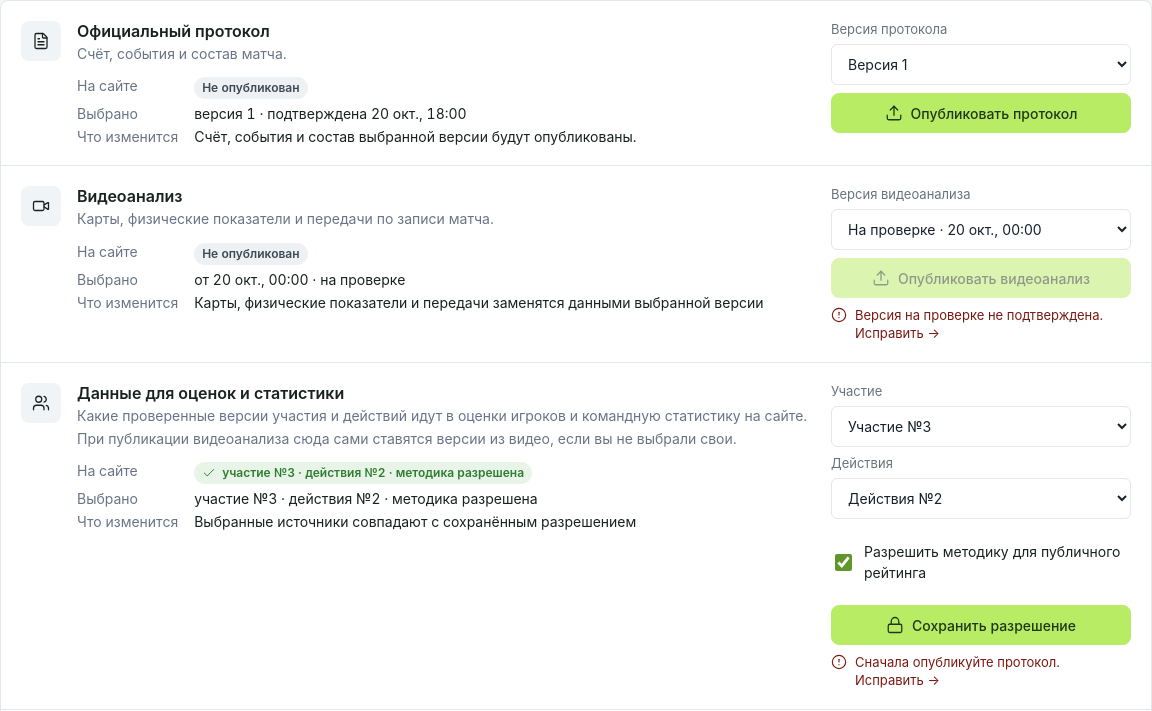
Test: match publication › does not queue a publication over an unsent protocol command
Click the button "Опубликовать протокол" at (981, 113), box top-left (831, 93), bottom-right (1131, 133)
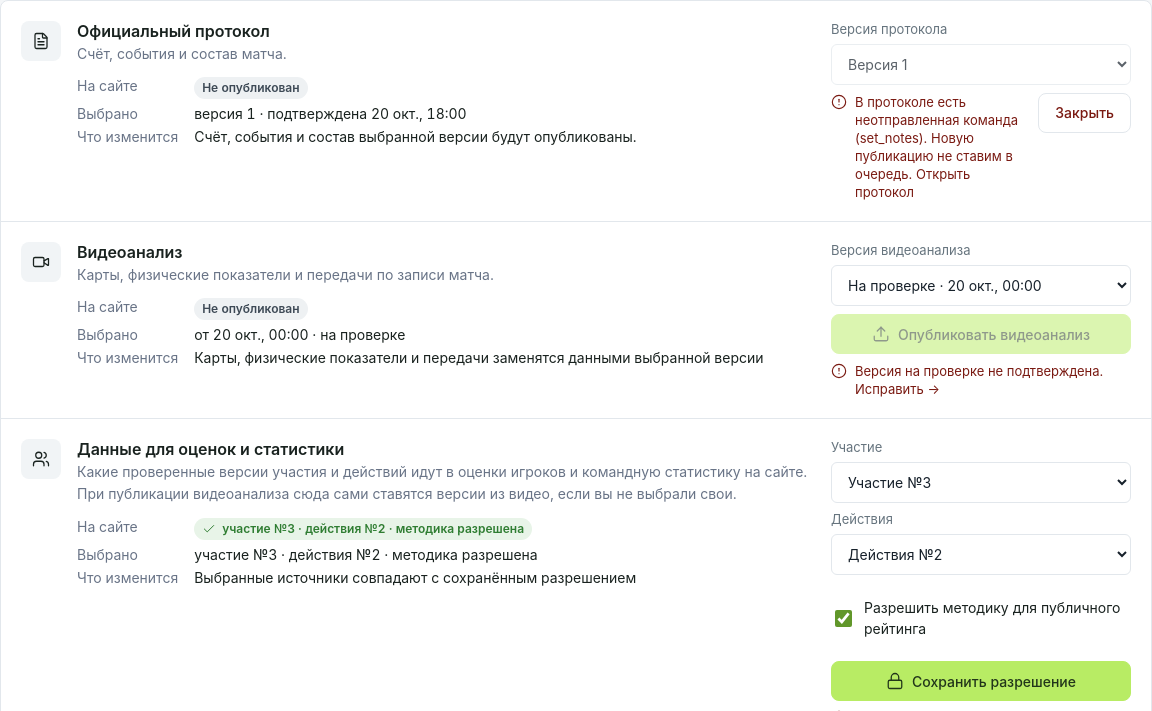
Check: the text "неотправленная команда (set_notes)" is shown, box top-left (855, 93), bottom-right (1030, 201)
